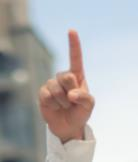up: (37, 27, 95, 142)
